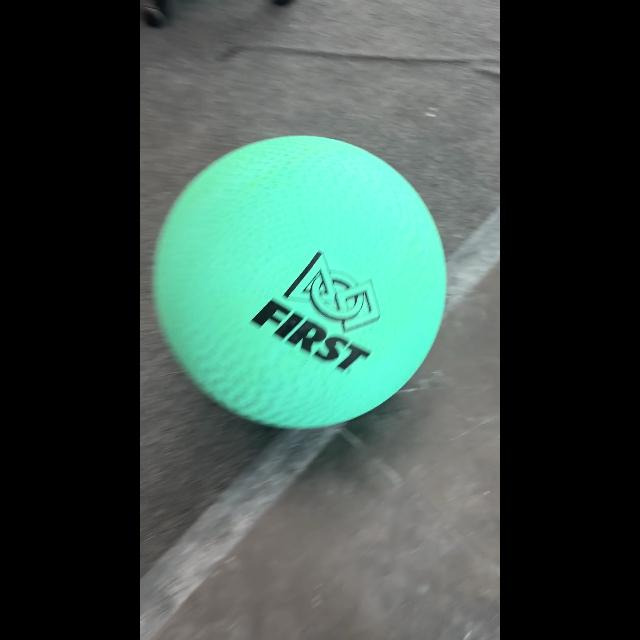ALGAE: (152, 134, 448, 430)
